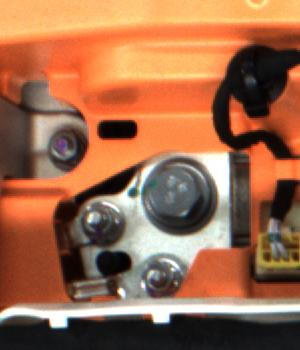nut_b: (135, 152, 223, 234)
